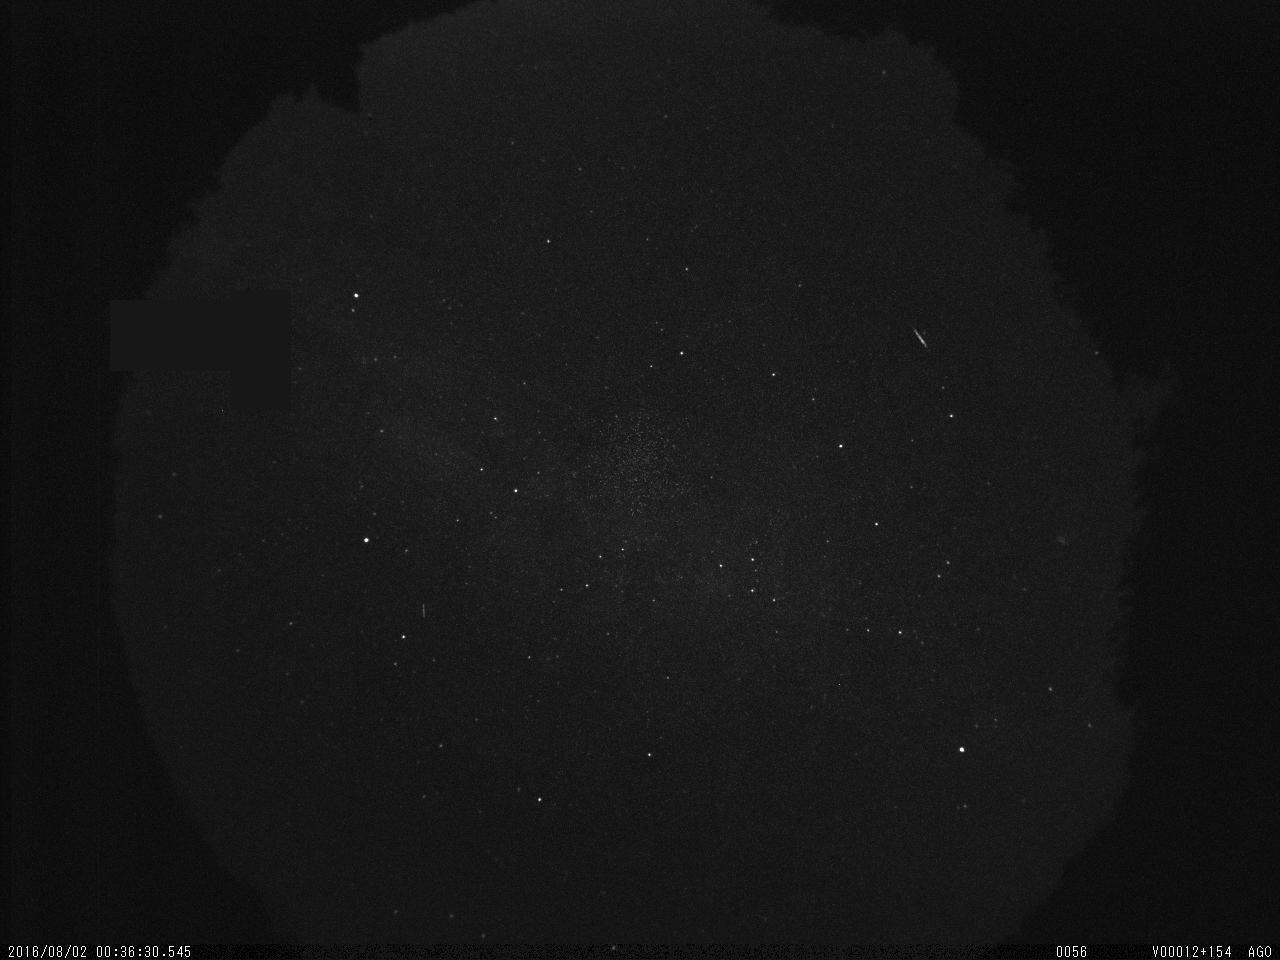Meteor: (910, 324, 930, 350)
